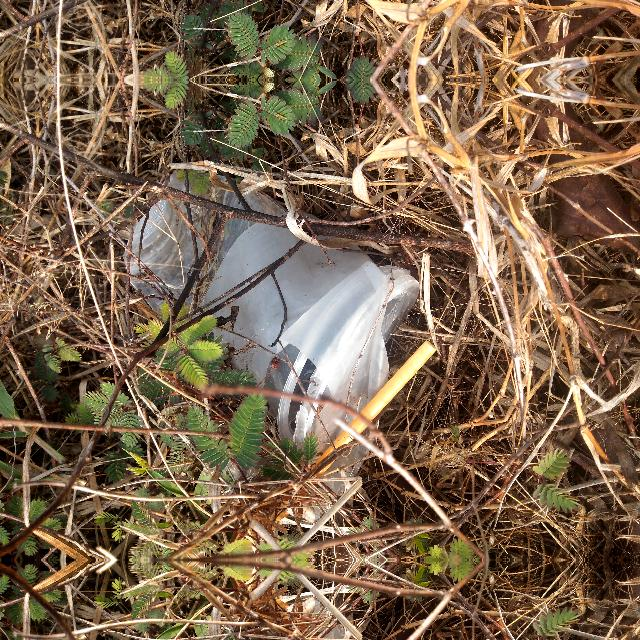Plastic: (122, 150, 444, 478)
